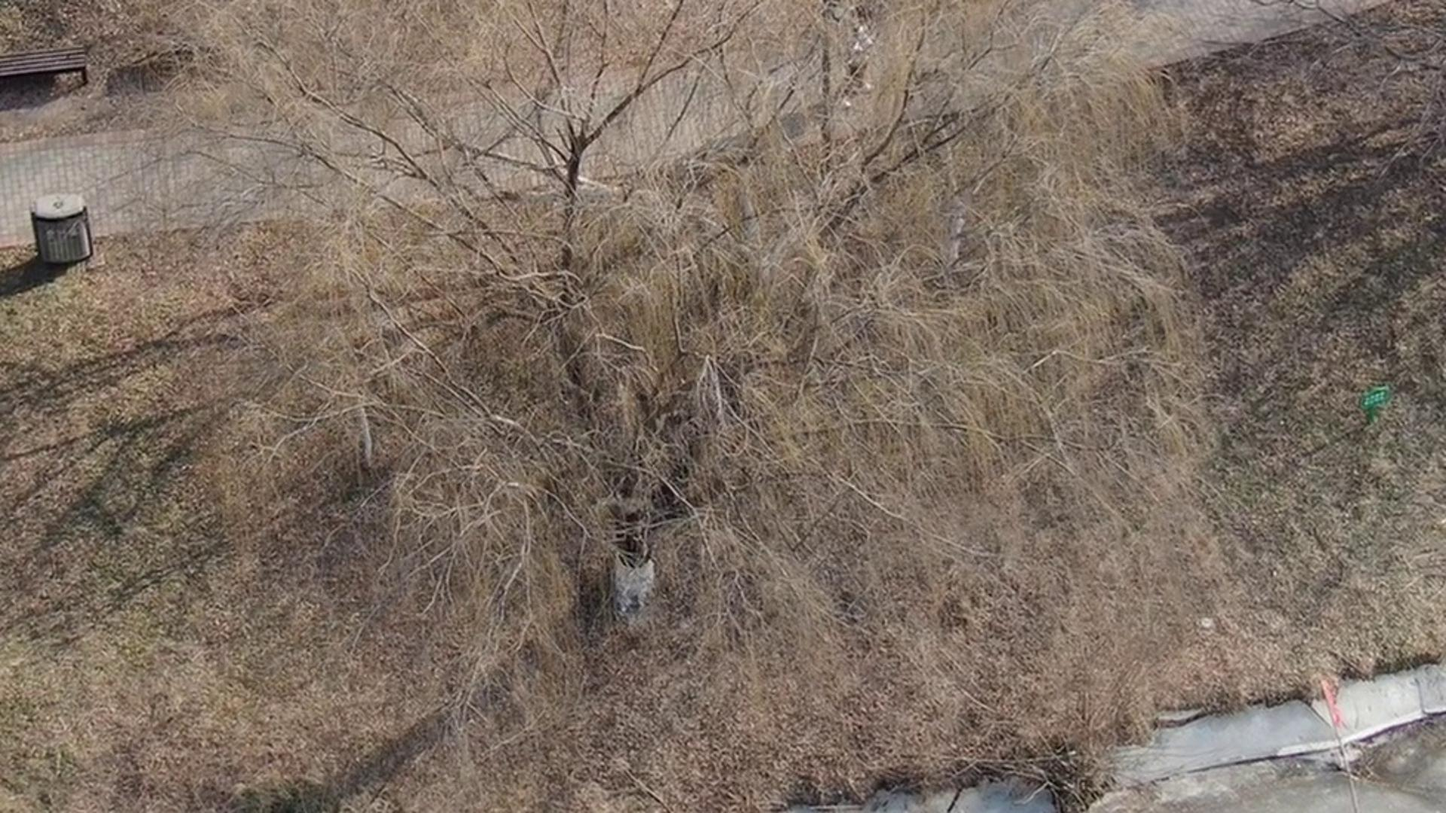human: (830, 22, 875, 120)
